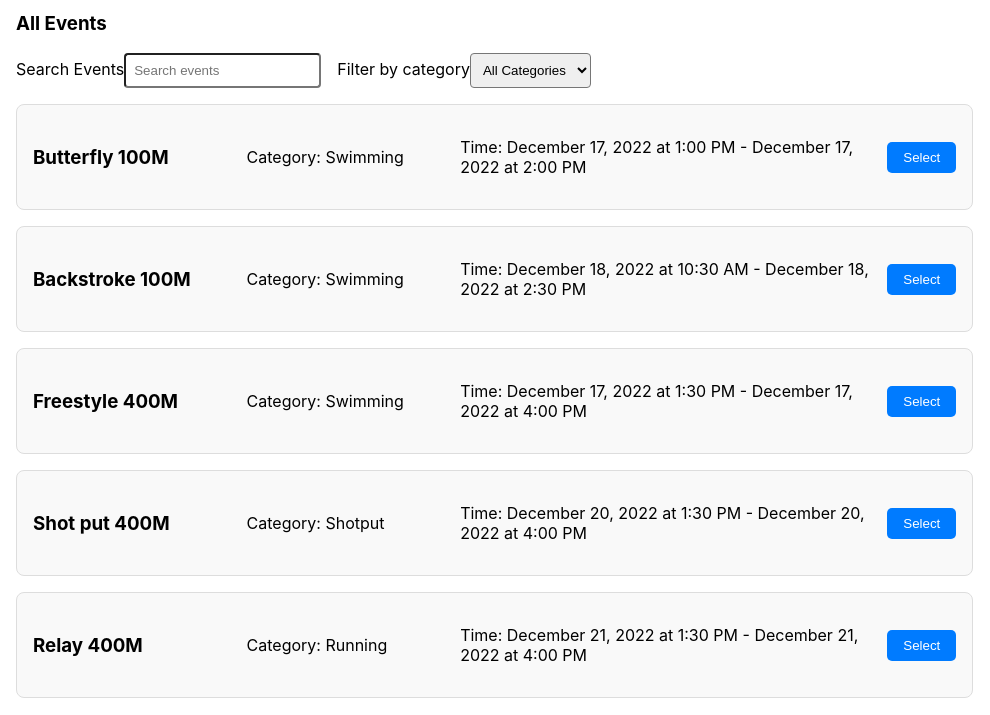
Test: Sports Events Open for Registration › filters events based on search and category
Expected: the heading "Butterfly 100M" is shown, [33,146,169,169]
In the field with placeholder "Search Events": (223, 71) [124,53,321,88], type "Backstroke"
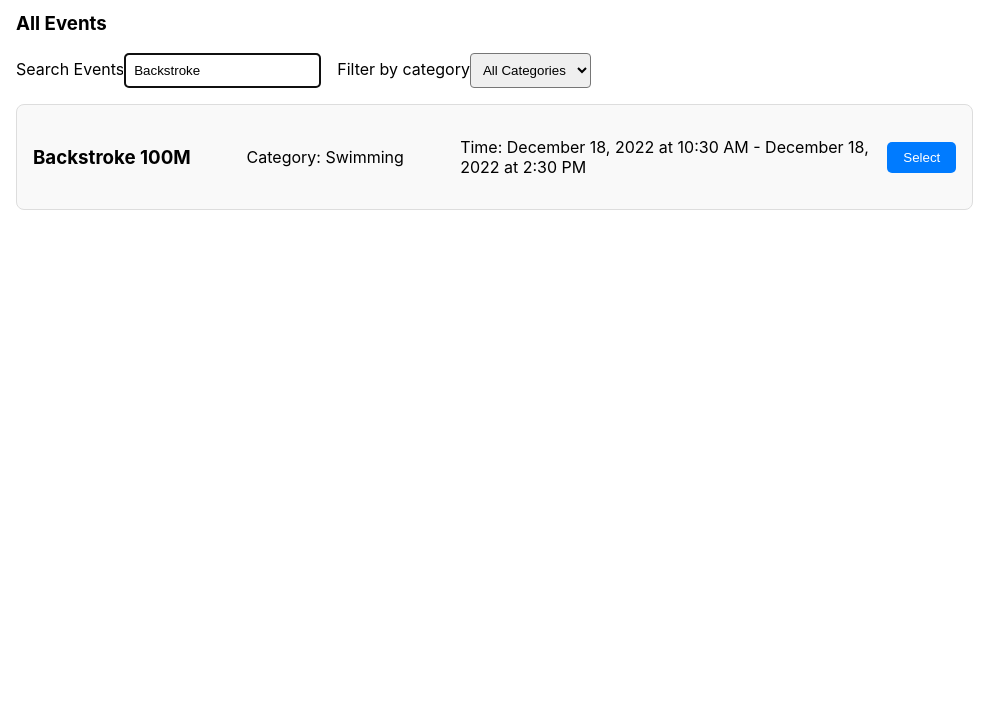
Expected: the heading "Backstroke 100M" is shown, [33,146,191,169]
Expected: the heading "Butterfly 100M" is gone
